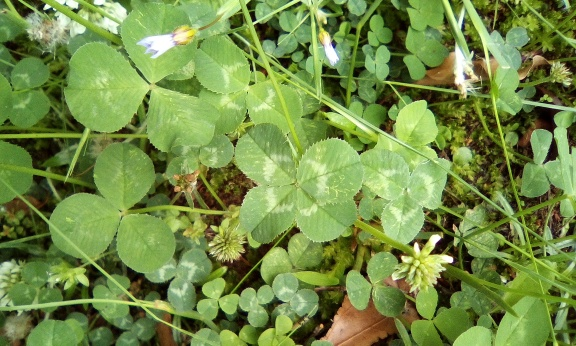4leaf: (234, 122, 364, 244)
